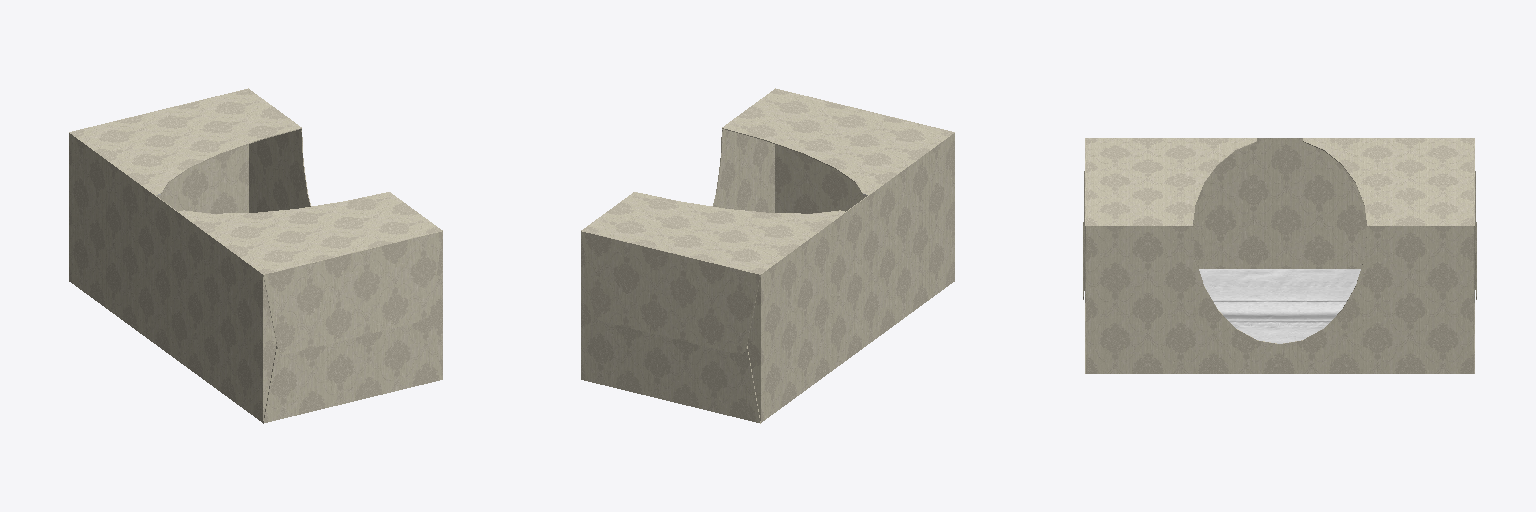
3 views of the same model, side by side, from view 1: azimuth 30°, elevation 25°; view 2: azimuth 150°, elevation 25°; view 3: azimuth 270°, elevation 25° (orthographic).
Visible parts, largest first — view 1: Mesh6_Group1_Model; view 2: Mesh6_Group1_Model; view 3: Mesh6_Group1_Model.
Part boxes in pixels (left/top/right/bottom): Mesh6_Group1_Model: left=69, top=88, right=442, bottom=423; Mesh6_Group1_Model: left=581, top=88, right=954, bottom=423; Mesh6_Group1_Model: left=1083, top=138, right=1476, bottom=373.
Bounding box in the file's own units: 0.528 × 0.4169 × 0.9999.
Materials: 3 (2 with a texture image).